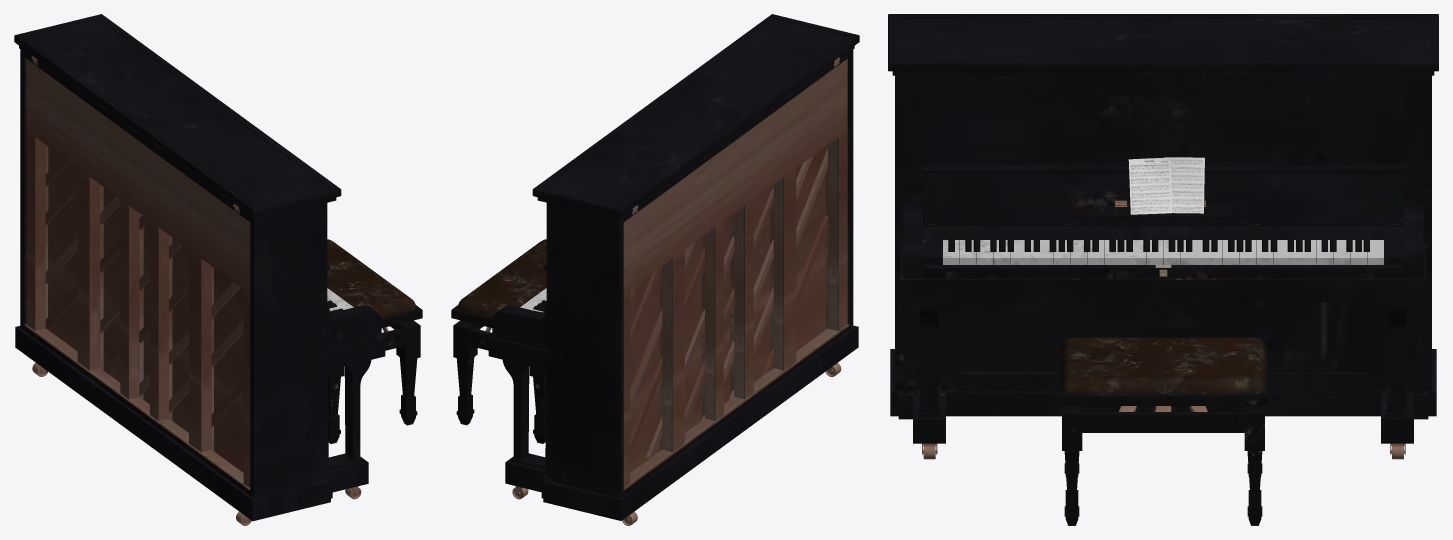
The model's file is tc-dc-dusty_old_piano.glb.
3 views of the same model, side by side, from view 1: azimuth 30°, elevation 25°; view 2: azimuth 150°, elevation 25°; view 3: azimuth 270°, elevation 25° (orthographic). The views are drawn at different scales.
Parts seen in each view (by area): view 1: Frame, Top, Wood_thingy, Cussion, Feets; view 2: Frame, Top, Wood_thingy, Cussion, Feets; view 3: Frame, Top, Lid, Cussion, White_keys, Feets, Black_keys, Cussion_frame, Plane, Plane.1, Note_stand.
Part boxes in pixels (left/top/right/bottom): Frame: left=15, top=49, right=385, bottom=521; Top: left=14, top=14, right=341, bottom=220; Wood_thingy: left=45, top=157, right=243, bottom=427; Cussion: left=327, top=239, right=415, bottom=318; Feets: left=328, top=320, right=420, bottom=443; Frame: left=488, top=49, right=858, bottom=520; Top: left=532, top=14, right=859, bottom=220; Wood_thingy: left=630, top=148, right=828, bottom=460; Cussion: left=458, top=239, right=546, bottom=317; Feets: left=453, top=320, right=545, bottom=443; Frame: left=890, top=75, right=1436, bottom=443; Top: left=888, top=14, right=1438, bottom=75; Lid: left=923, top=164, right=1403, bottom=224; Cussion: left=1061, top=337, right=1265, bottom=393; White_keys: left=943, top=240, right=1383, bottom=264; Feets: left=1062, top=406, right=1264, bottom=525; Black_keys: left=948, top=237, right=1369, bottom=262; Cussion_frame: left=1059, top=344, right=1267, bottom=405; Plane: left=1128, top=157, right=1171, bottom=214; Plane.1: left=1163, top=157, right=1204, bottom=213; Note_stand: left=1095, top=200, right=1231, bottom=218.
Bounding box in the file's own units: 1.12 × 1.45 × 1.91.
3 materials, 3 textured.
